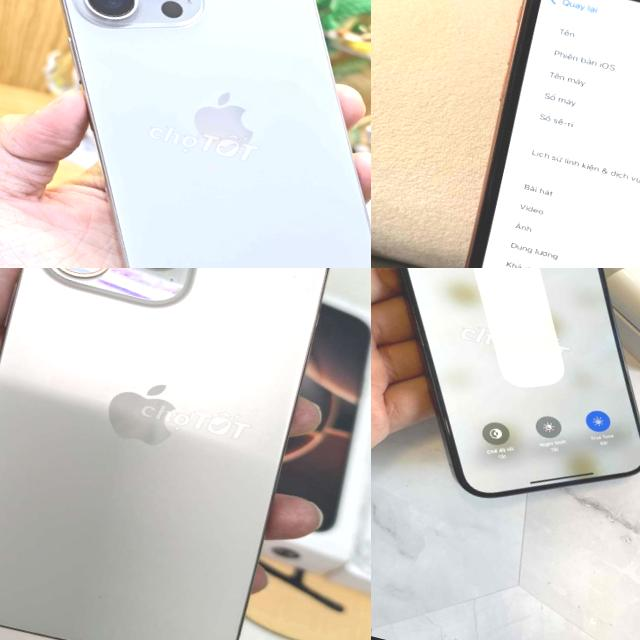scratch: (104, 268, 139, 274)
